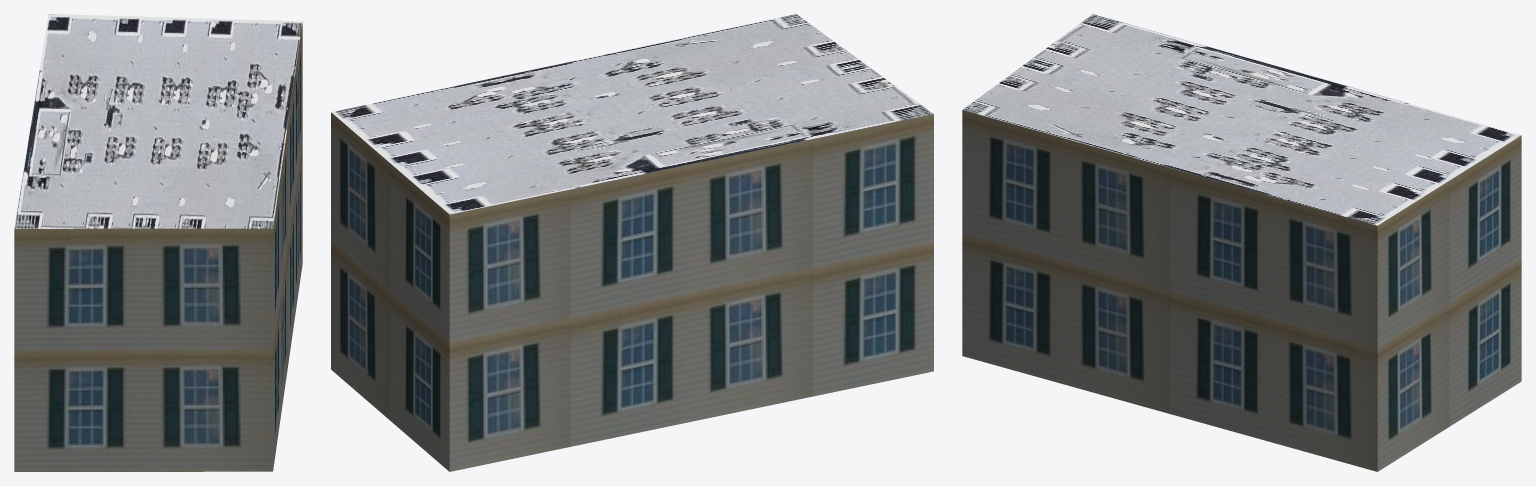
The model's file is ResTex__2039.fbx.
3 views of the same model, side by side, from view 1: azimuth 30°, elevation 25°; view 2: azimuth 150°, elevation 25°; view 3: azimuth 270°, elevation 25° (orthographic). The views are drawn at different scales.
Visible parts, largest first — view 1: CityEngineMaterial_7_m, CityEngineMaterial_15_m; view 2: CityEngineMaterial_7_m, CityEngineMaterial_15_m; view 3: CityEngineMaterial_7_m, CityEngineMaterial_15_m.
Part boxes in pixels (x1,y1,x2,y2): CityEngineMaterial_7_m: (14,22,302,471); CityEngineMaterial_15_m: (14,14,302,228); CityEngineMaterial_7_m: (331,112,933,471); CityEngineMaterial_15_m: (331,14,932,214); CityEngineMaterial_7_m: (962,110,1521,471); CityEngineMaterial_15_m: (963,14,1520,225).
Bounding box in the file's own units: 11.07 × 6 × 12.35.
Materials: 2 (2 with a texture image).
